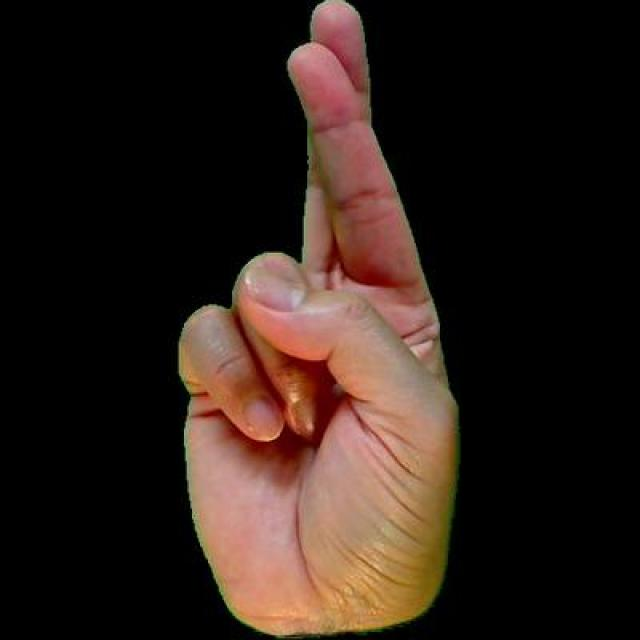r: (152, 0, 459, 637)
